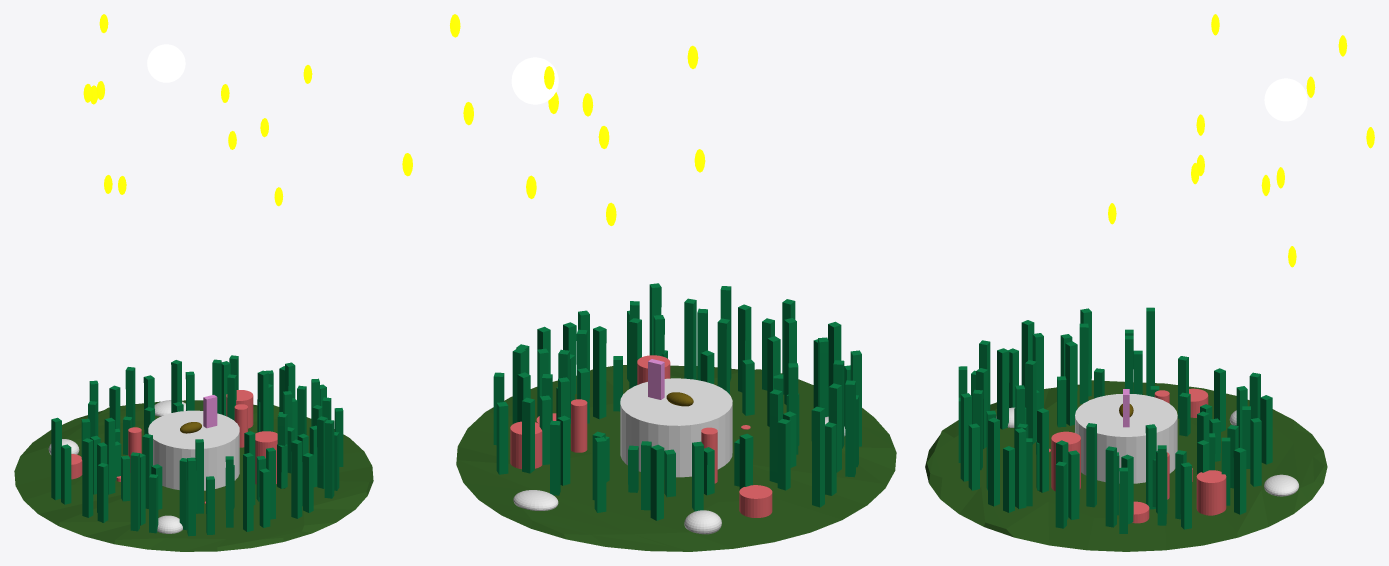
The model's file is Diorama.fbx.
The picture shows the model from 3 angles, left to right: view 1: azimuth 30°, elevation 25°; view 2: azimuth 150°, elevation 25°; view 3: azimuth 270°, elevation 25°; orthographic projection. The views are drawn at different scales.
Parts seen in each view (by area): view 1: Circle, Cube.005, Cube.001, Cylinder, Cube.002, Cube.003, Cube.008, Cube.007, Cube.004, Sphere, Cube.009, Cylinder.008 (+1 smaller); view 2: Circle, Cylinder, Cube.003, Cube.007, Cube.002, Cube.008, Cube.005, Cube.001, Cube.004, Cube.009, Sphere, Cylinder.010 (+5 smaller); view 3: Circle, Cube.003, Cube.001, Cube.002, Cylinder, Cube.007, Cube.005, Cube.008, Cube.004, Sphere, Cylinder.009, Cube.009 (+2 smaller).
Boxes of the visible parts, left/top/right/bottom form: Circle: left=14, top=400, right=373, bottom=551; Cube.005: left=51, top=417, right=334, bottom=536; Cube.001: left=61, top=355, right=343, bottom=534; Cylinder: left=148, top=410, right=239, bottom=490; Cube.002: left=104, top=359, right=292, bottom=513; Cube.003: left=97, top=362, right=331, bottom=530; Cube.008: left=81, top=371, right=297, bottom=494; Cube.007: left=89, top=360, right=322, bottom=487; Cube.004: left=121, top=399, right=294, bottom=512; Sphere: left=147, top=44, right=185, bottom=82; Cube.009: left=115, top=402, right=183, bottom=480; Cylinder.008: left=255, top=431, right=277, bottom=484; Circle: left=456, top=365, right=896, bottom=551; Cylinder: left=620, top=378, right=732, bottom=477; Cube.003: left=512, top=298, right=844, bottom=472; Cube.007: left=517, top=318, right=664, bottom=520; Cube.002: left=558, top=315, right=798, bottom=483; Cube.008: left=539, top=354, right=790, bottom=511; Cube.005: left=649, top=283, right=861, bottom=507; Cube.001: left=493, top=308, right=858, bottom=495; Cube.004: left=556, top=350, right=799, bottom=467; Cube.009: left=605, top=436, right=739, bottom=497; Sphere: left=511, top=57, right=558, bottom=104; Cylinder.010: left=739, top=485, right=772, bottom=517; Circle: left=925, top=380, right=1327, bottom=551; Cube.003: left=973, top=323, right=1166, bottom=527; Cube.001: left=958, top=329, right=1246, bottom=533; Cube.002: left=1015, top=335, right=1209, bottom=509; Cylinder: left=1075, top=394, right=1177, bottom=483; Cube.007: left=1026, top=372, right=1272, bottom=524; Cube.005: left=958, top=307, right=1154, bottom=506; Cube.008: left=1117, top=350, right=1250, bottom=515; Cube.004: left=1014, top=368, right=1155, bottom=507; Sphere: left=1264, top=78, right=1307, bottom=121; Cylinder.009: left=1196, top=470, right=1226, bottom=515; Cube.009: left=1150, top=386, right=1220, bottom=470.
Size of the model in its own units: 9326 by 11310 by 10423.
